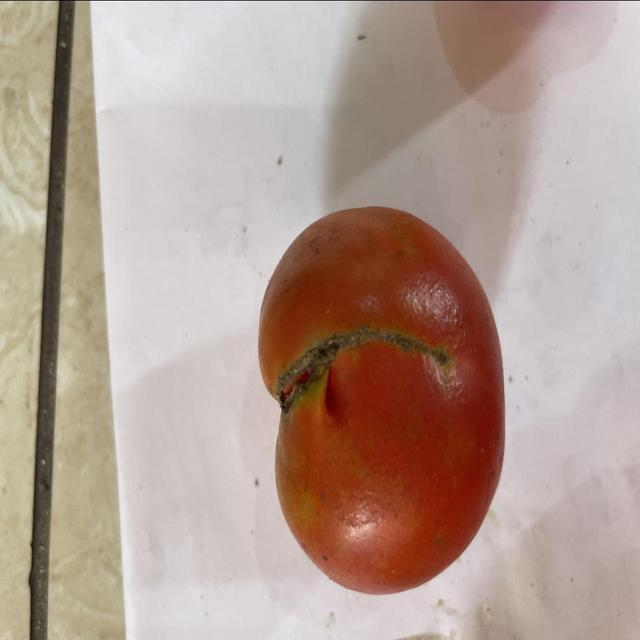Cracking Fruit: (181, 124, 412, 337)
